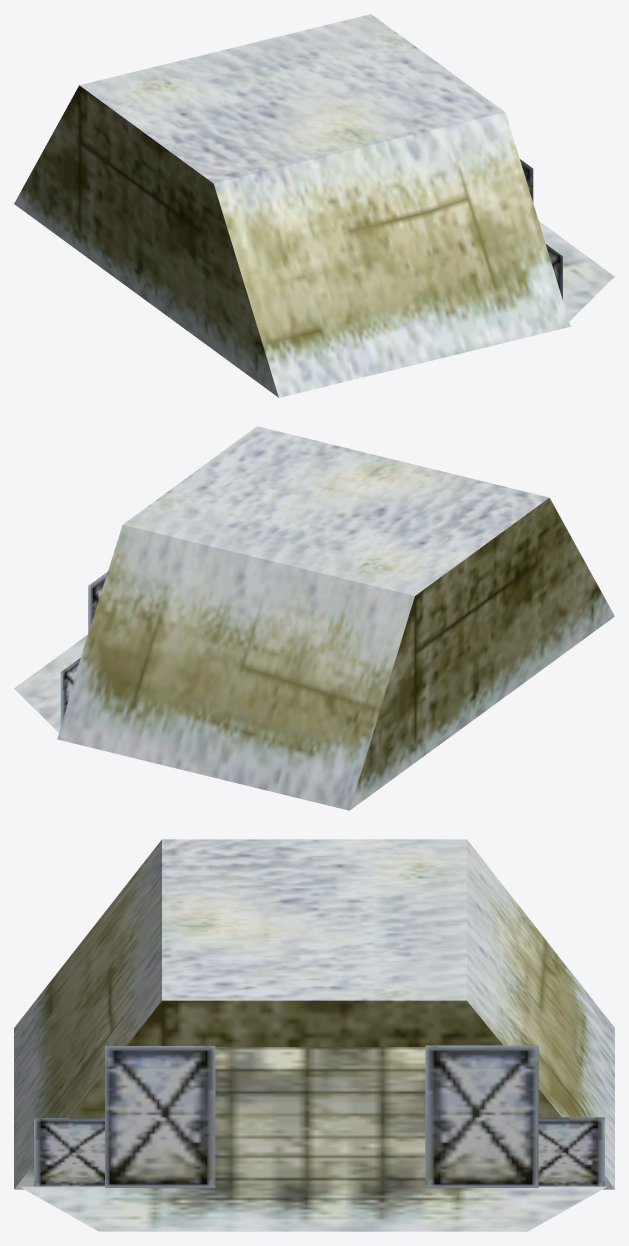
The model's file is Civilian - Civilian Building - Stan Hanger 02 - Snow - CBTHanger2_s.glb.
3 views of the same model, one above another, from view 1: azimuth 30°, elevation 25°; view 2: azimuth 150°, elevation 25°; view 3: azimuth 270°, elevation 25° (orthographic). The views are drawn at different scales.
Parts seen in each view (by area): view 1: CBTHANGER2_S; view 2: CBTHANGER2_S; view 3: CBTHANGER2_S.
Boxes of the visible parts, bbox=[...] form: CBTHANGER2_S: bbox=[14, 14, 614, 397]; CBTHANGER2_S: bbox=[14, 426, 614, 810]; CBTHANGER2_S: bbox=[14, 839, 614, 1231].
Bounding box in the file's own units: 57.65 × 24.56 × 70.85.
1 material, 1 textured.
